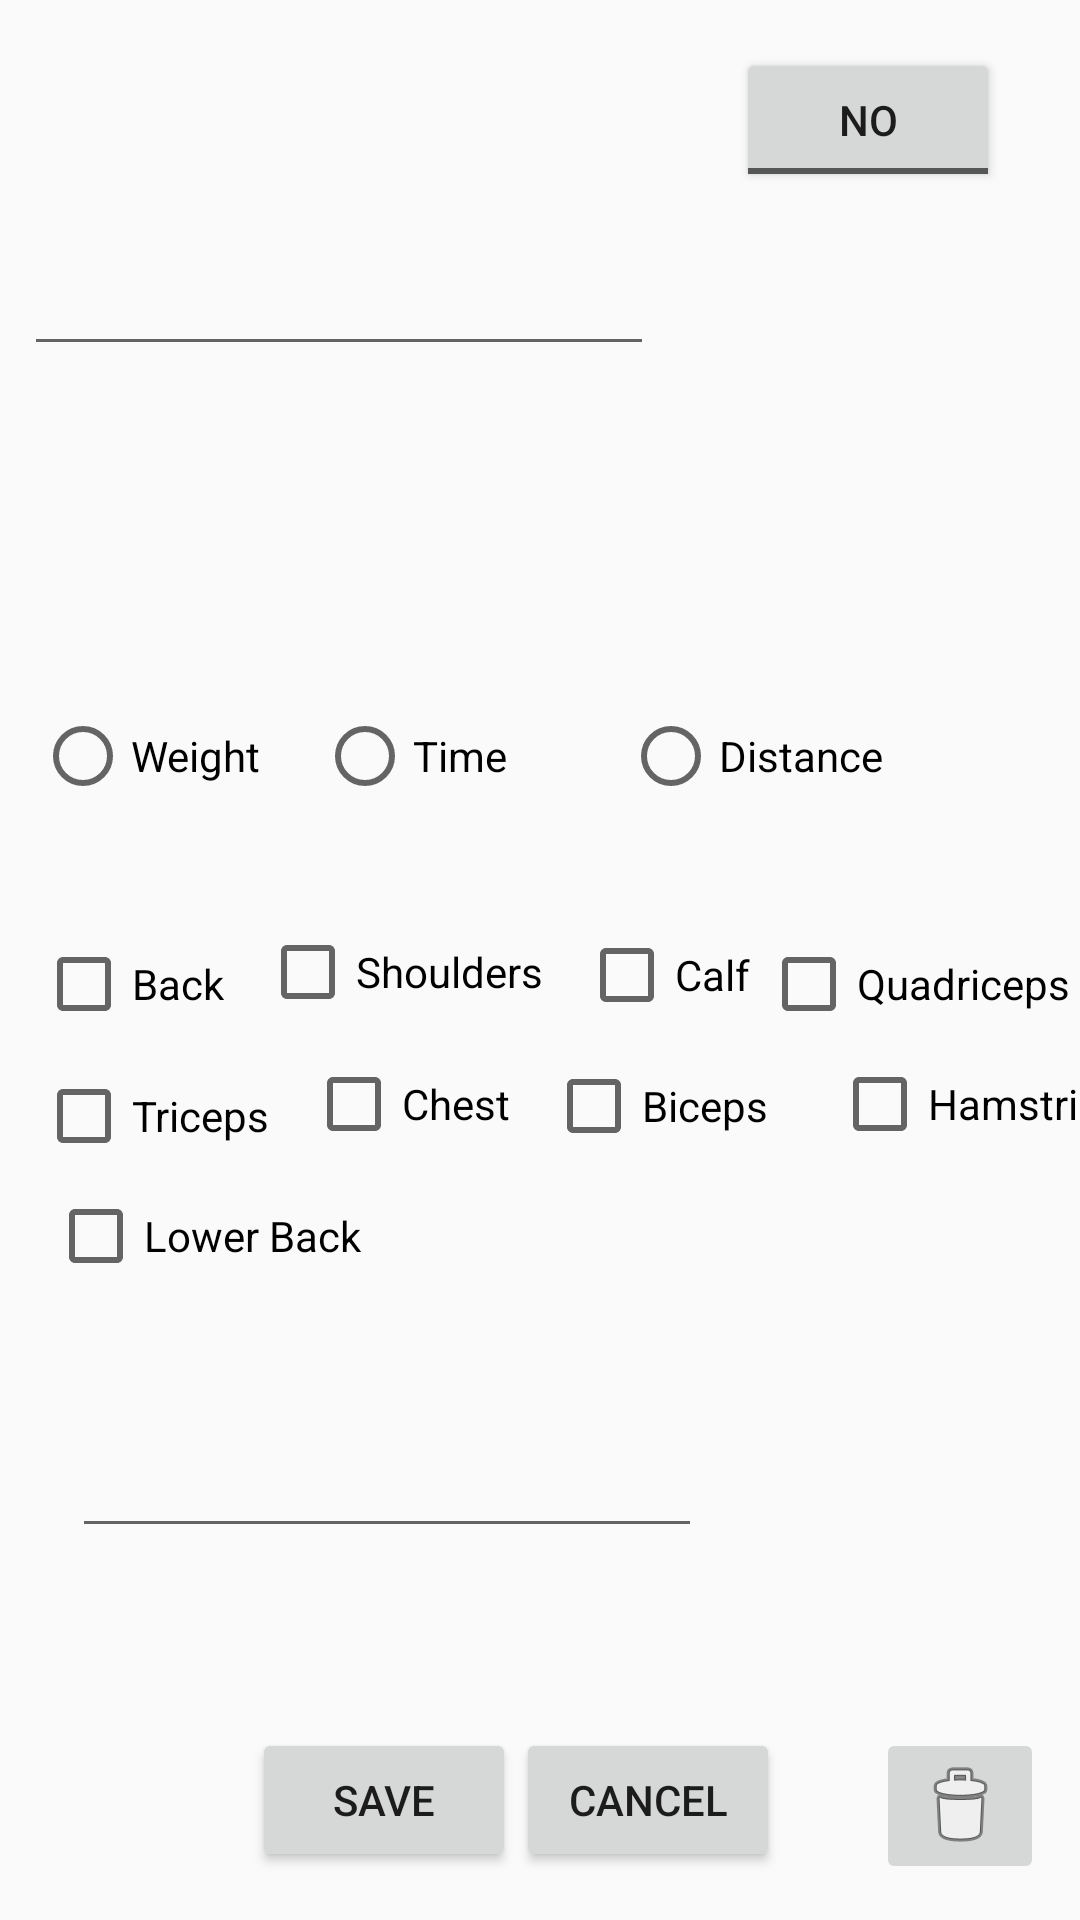

Screen size 1080×1920. Icon name, then its center in pixels as point (x, y):
delete: point (960, 1806)
